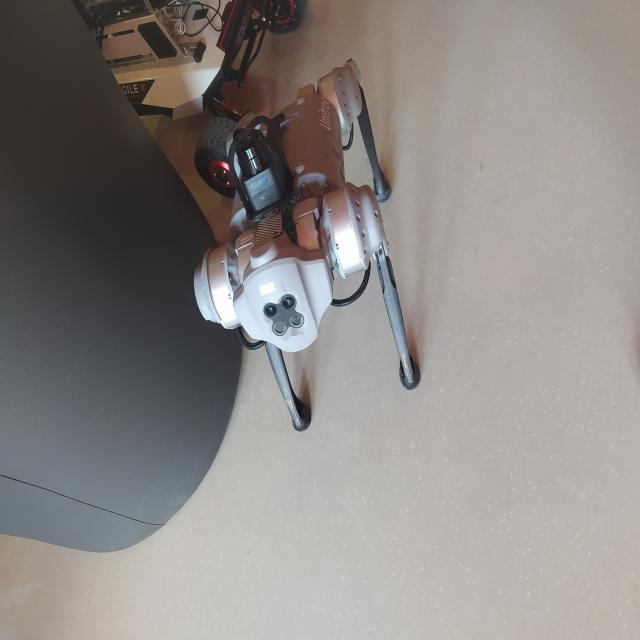unitree-go1-robot: (176, 46, 438, 449)
